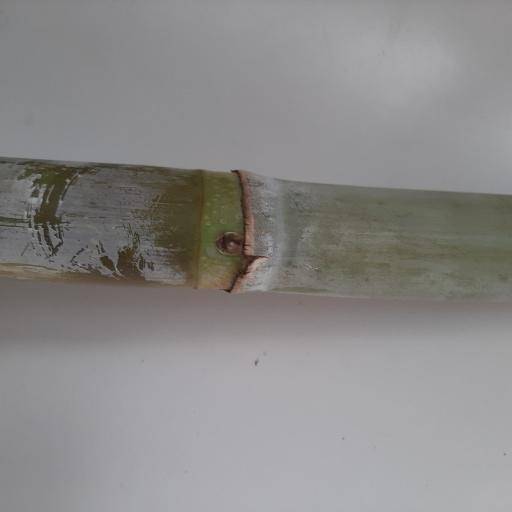Bud: (215, 232, 243, 255)
